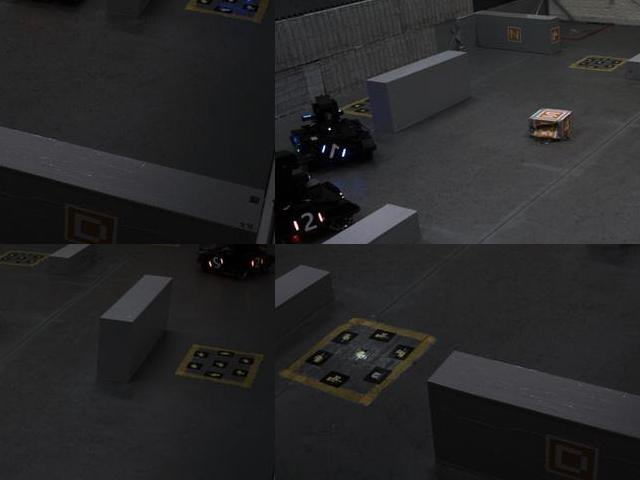armor: (289, 207, 325, 237), (319, 137, 355, 161), (205, 252, 230, 273), (245, 254, 265, 272)
